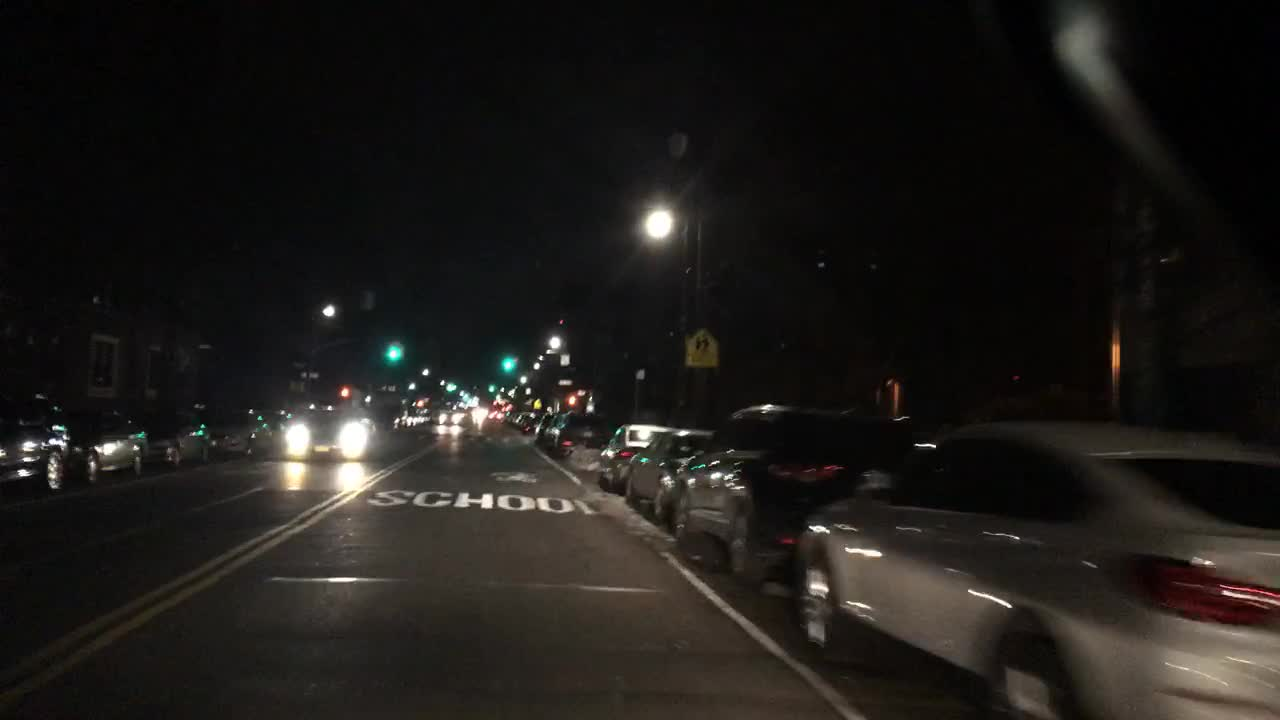car: (793, 427, 1277, 717), (674, 401, 916, 594), (621, 427, 713, 536), (0, 390, 72, 490), (596, 425, 688, 496), (65, 404, 145, 484), (282, 405, 381, 463), (144, 402, 210, 472), (204, 402, 273, 457), (558, 410, 611, 460), (365, 390, 403, 432), (535, 414, 553, 447), (436, 408, 469, 425), (516, 410, 537, 432), (403, 402, 417, 430), (418, 404, 434, 425), (485, 410, 506, 425), (504, 411, 518, 427)
traffic light: (382, 339, 402, 364), (499, 353, 517, 373), (335, 386, 353, 398), (567, 390, 578, 408), (444, 379, 456, 391), (486, 384, 499, 393)
traffic sign: (685, 328, 718, 365), (531, 395, 543, 408)
